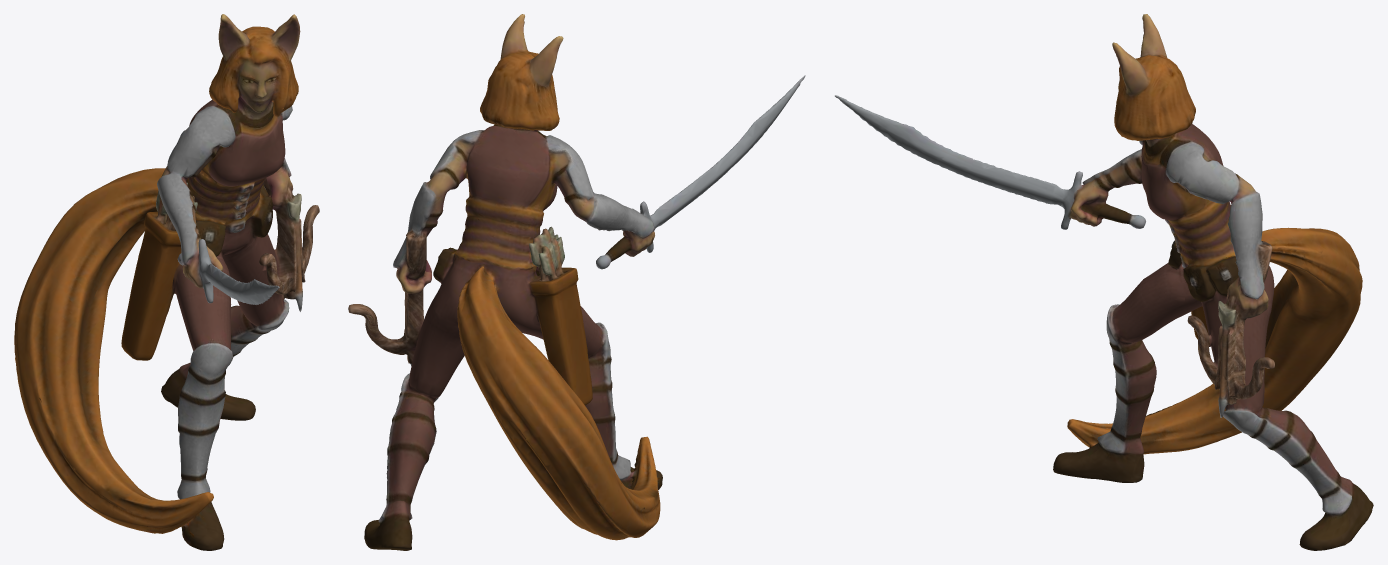
The model's file is MZ4250 - Shifter Female Rogue.glb.
3 renders of one model, left to right at view 1: azimuth 30°, elevation 25°; view 2: azimuth 150°, elevation 25°; view 3: azimuth 270°, elevation 25°, orthographic. The views are drawn at different scales.
Visible parts, largest first — view 1: Shifter Female Rogue_low.002; view 2: Shifter Female Rogue_low.002; view 3: Shifter Female Rogue_low.002.
Part boxes in pixels (left/top/right/bottom): Shifter Female Rogue_low.002: left=14, top=14, right=319, bottom=550; Shifter Female Rogue_low.002: left=348, top=14, right=805, bottom=550; Shifter Female Rogue_low.002: left=835, top=14, right=1373, bottom=550.
Bounding box in the file's own units: 1.17 × 1.9 × 1.92.
1 material, 1 textured.
